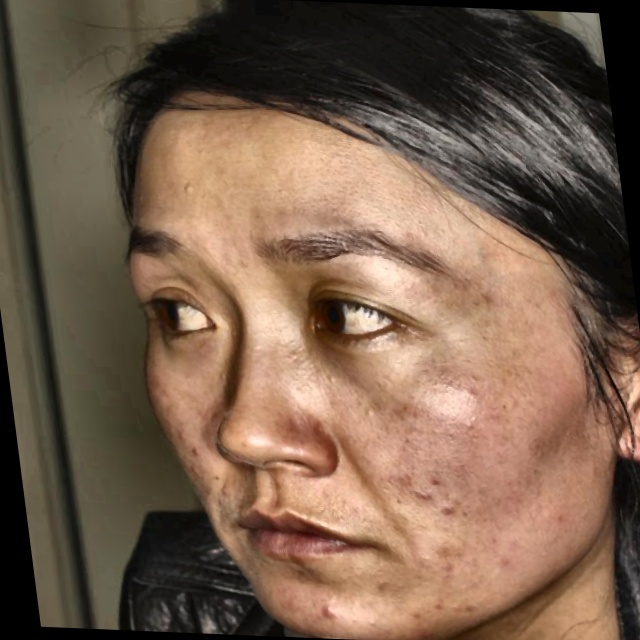comedone: (437, 498, 476, 523), (315, 595, 344, 623)
